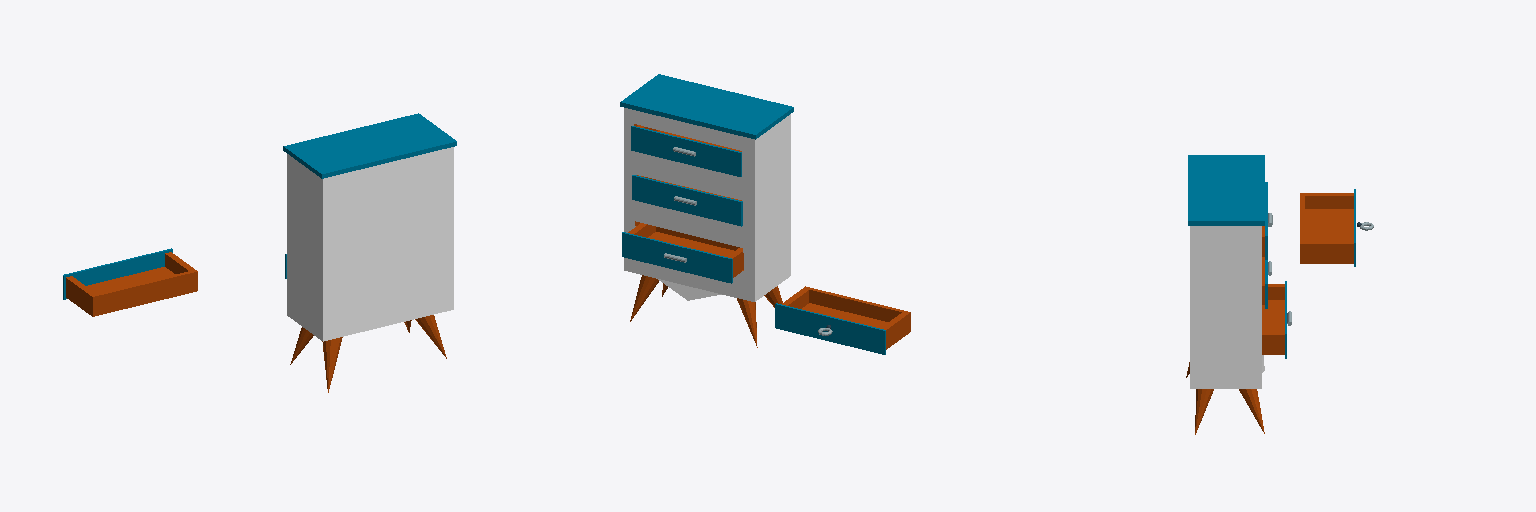
3 renders of one model, left to right at view 1: azimuth 30°, elevation 25°; view 2: azimuth 150°, elevation 25°; view 3: azimuth 270°, elevation 25°, orthographic.
Visible parts, largest first — view 1: group[number redacted], group[number redacted], group[number redacted], group[number redacted], group[number redacted]; view 2: group[number redacted], group[number redacted], group[number redacted], group[number redacted], group[number redacted], group[number redacted], group[number redacted], group[number redacted]; view 3: group[number redacted], group[number redacted], group[number redacted], group[number redacted], group[number redacted].
Boxes of the visible parts, x1=… form: group[number redacted]: x1=283, y1=113, x2=456, y2=392; group[number redacted]: x1=90, y1=270, x2=197, y2=316; group[number redacted]: x1=63, y1=248, x2=172, y2=299; group[number redacted]: x1=86, y1=267, x2=175, y2=293; group[number redacted]: x1=66, y1=276, x2=95, y2=314; group[number redacted]: x1=620, y1=74, x2=793, y2=347; group[number redacted]: x1=622, y1=223, x2=743, y2=283; group[number redacted]: x1=631, y1=125, x2=741, y2=176; group[number redacted]: x1=632, y1=175, x2=742, y2=226; group[number redacted]: x1=775, y1=303, x2=885, y2=354; group[number redacted]: x1=804, y1=286, x2=910, y2=332; group[number redacted]: x1=802, y1=303, x2=887, y2=327; group[number redacted]: x1=880, y1=312, x2=908, y2=349; group[number redacted]: x1=1186, y1=155, x2=1264, y2=434; group[number redacted]: x1=1262, y1=281, x2=1291, y2=358; group[number redacted]: x1=1305, y1=209, x2=1353, y2=240; group[number redacted]: x1=1305, y1=241, x2=1353, y2=263; group[number redacted]: x1=1305, y1=193, x2=1353, y2=208.
Bounding box in the file's own units: 1.45 × 0.9818 × 0.7582.